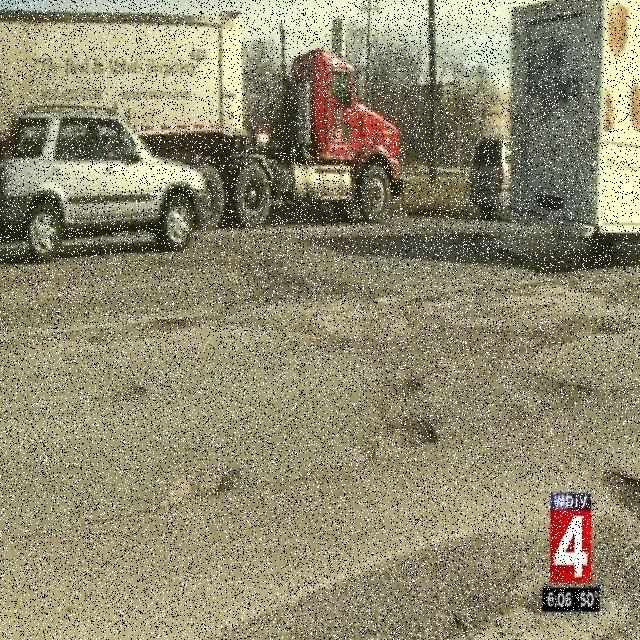pothole: (368, 417, 434, 461), (174, 463, 236, 497), (606, 471, 640, 516), (390, 373, 420, 396)
